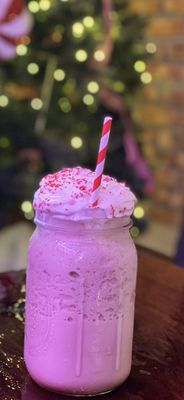soup: (23, 163, 140, 396)
